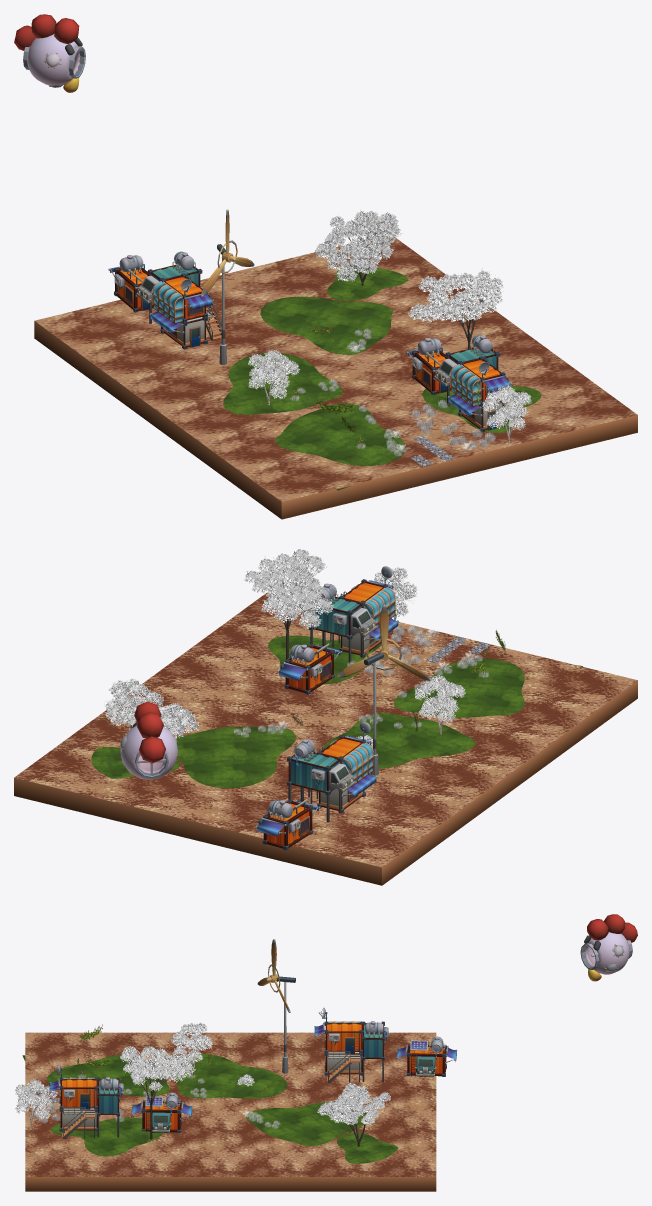
The model's file is village.glb.
The picture shows the model from 3 angles, top to bottom: view 1: azimuth 30°, elevation 25°; view 2: azimuth 150°, elevation 25°; view 3: azimuth 270°, elevation 25°; orthographic projection. The views are drawn at different scales.
Visible parts, largest first — view 1: Plane, Plane.004, Plane.002, finb_house_09.002, Plane.003, finb_house_09.001, pow_gen01_chicken.001, sn_tree_oak, sn_tree_oak.002, sn_tree_birch2.002, Plane.005, sn_tree_birch2.001 (+4 smaller); view 2: Plane, Plane.004, finb_house_09.002, Plane.002, sn_tree_oak.002, finb_house_09.001, Plane.003, pow_gen01_chicken.001, sn_tree_oak, finb_house_15.002, finb_house_15.001, sn_tree_birch2.002 (+5 smaller); view 3: Plane, Plane.003, finb_house_09.001, finb_house_09.002, Plane.004, pow_gen01_chicken.001, sn_tree_oak.002, Plane.001, Plane.002, sn_tree_oak, finb_house_15.002, finb_house_15.001 (+5 smaller).
Boxes of the visible parts, <box> form: Plane: <box>34,237,637,519</box>; Plane.004: <box>260,296,392,354</box>; Plane.002: <box>275,403,405,490</box>; finb_house_09.002: <box>136,251,221,349</box>; Plane.003: <box>223,353,342,414</box>; finb_house_09.001: <box>434,334,521,432</box>; pow_gen01_chicken.001: <box>14,14,85,92</box>; sn_tree_oak: <box>315,211,401,285</box>; sn_tree_oak.002: <box>408,268,503,348</box>; sn_tree_birch2.002: <box>248,349,300,405</box>; Plane.005: <box>327,267,408,300</box>; sn_tree_birch2.001: <box>482,385,531,442</box>; Plane: <box>14,591,637,885</box>; Plane.004: <box>176,726,295,788</box>; finb_house_09.002: <box>287,721,377,822</box>; Plane.002: <box>394,658,582,717</box>; sn_tree_oak.002: <box>244,549,333,659</box>; finb_house_09.001: <box>308,566,398,665</box>; Plane.003: <box>322,712,475,768</box>; pow_gen01_chicken.001: <box>119,701,177,779</box>; sn_tree_oak: <box>104,678,198,738</box>; finb_house_15.002: <box>255,799,320,850</box>; finb_house_15.001: <box>277,643,341,694</box>; sn_tree_birch2.002: <box>414,675,465,734</box>; Plane: <box>25,1032,436,1191</box>; Plane.003: <box>174,1054,287,1098</box>; finb_house_09.001: <box>49,1064,123,1138</box>; finb_house_09.002: <box>314,1007,388,1082</box>; Plane.004: <box>246,1102,367,1145</box>; pow_gen01_chicken.001: <box>580,914,637,981</box>; sn_tree_oak.002: <box>120,1046,195,1139</box>; Plane.001: <box>51,1117,162,1156</box>; Plane.002: <box>22,1055,169,1096</box>; sn_tree_oak: <box>317,1083,390,1146</box>; finb_house_15.002: <box>396,1036,457,1076</box>; finb_house_15.001: <box>131,1092,192,1132</box>.
Size of the model in its own units: 43.45 by 25.18 by 79.37.
Materials: 9 (9 with a texture image).
